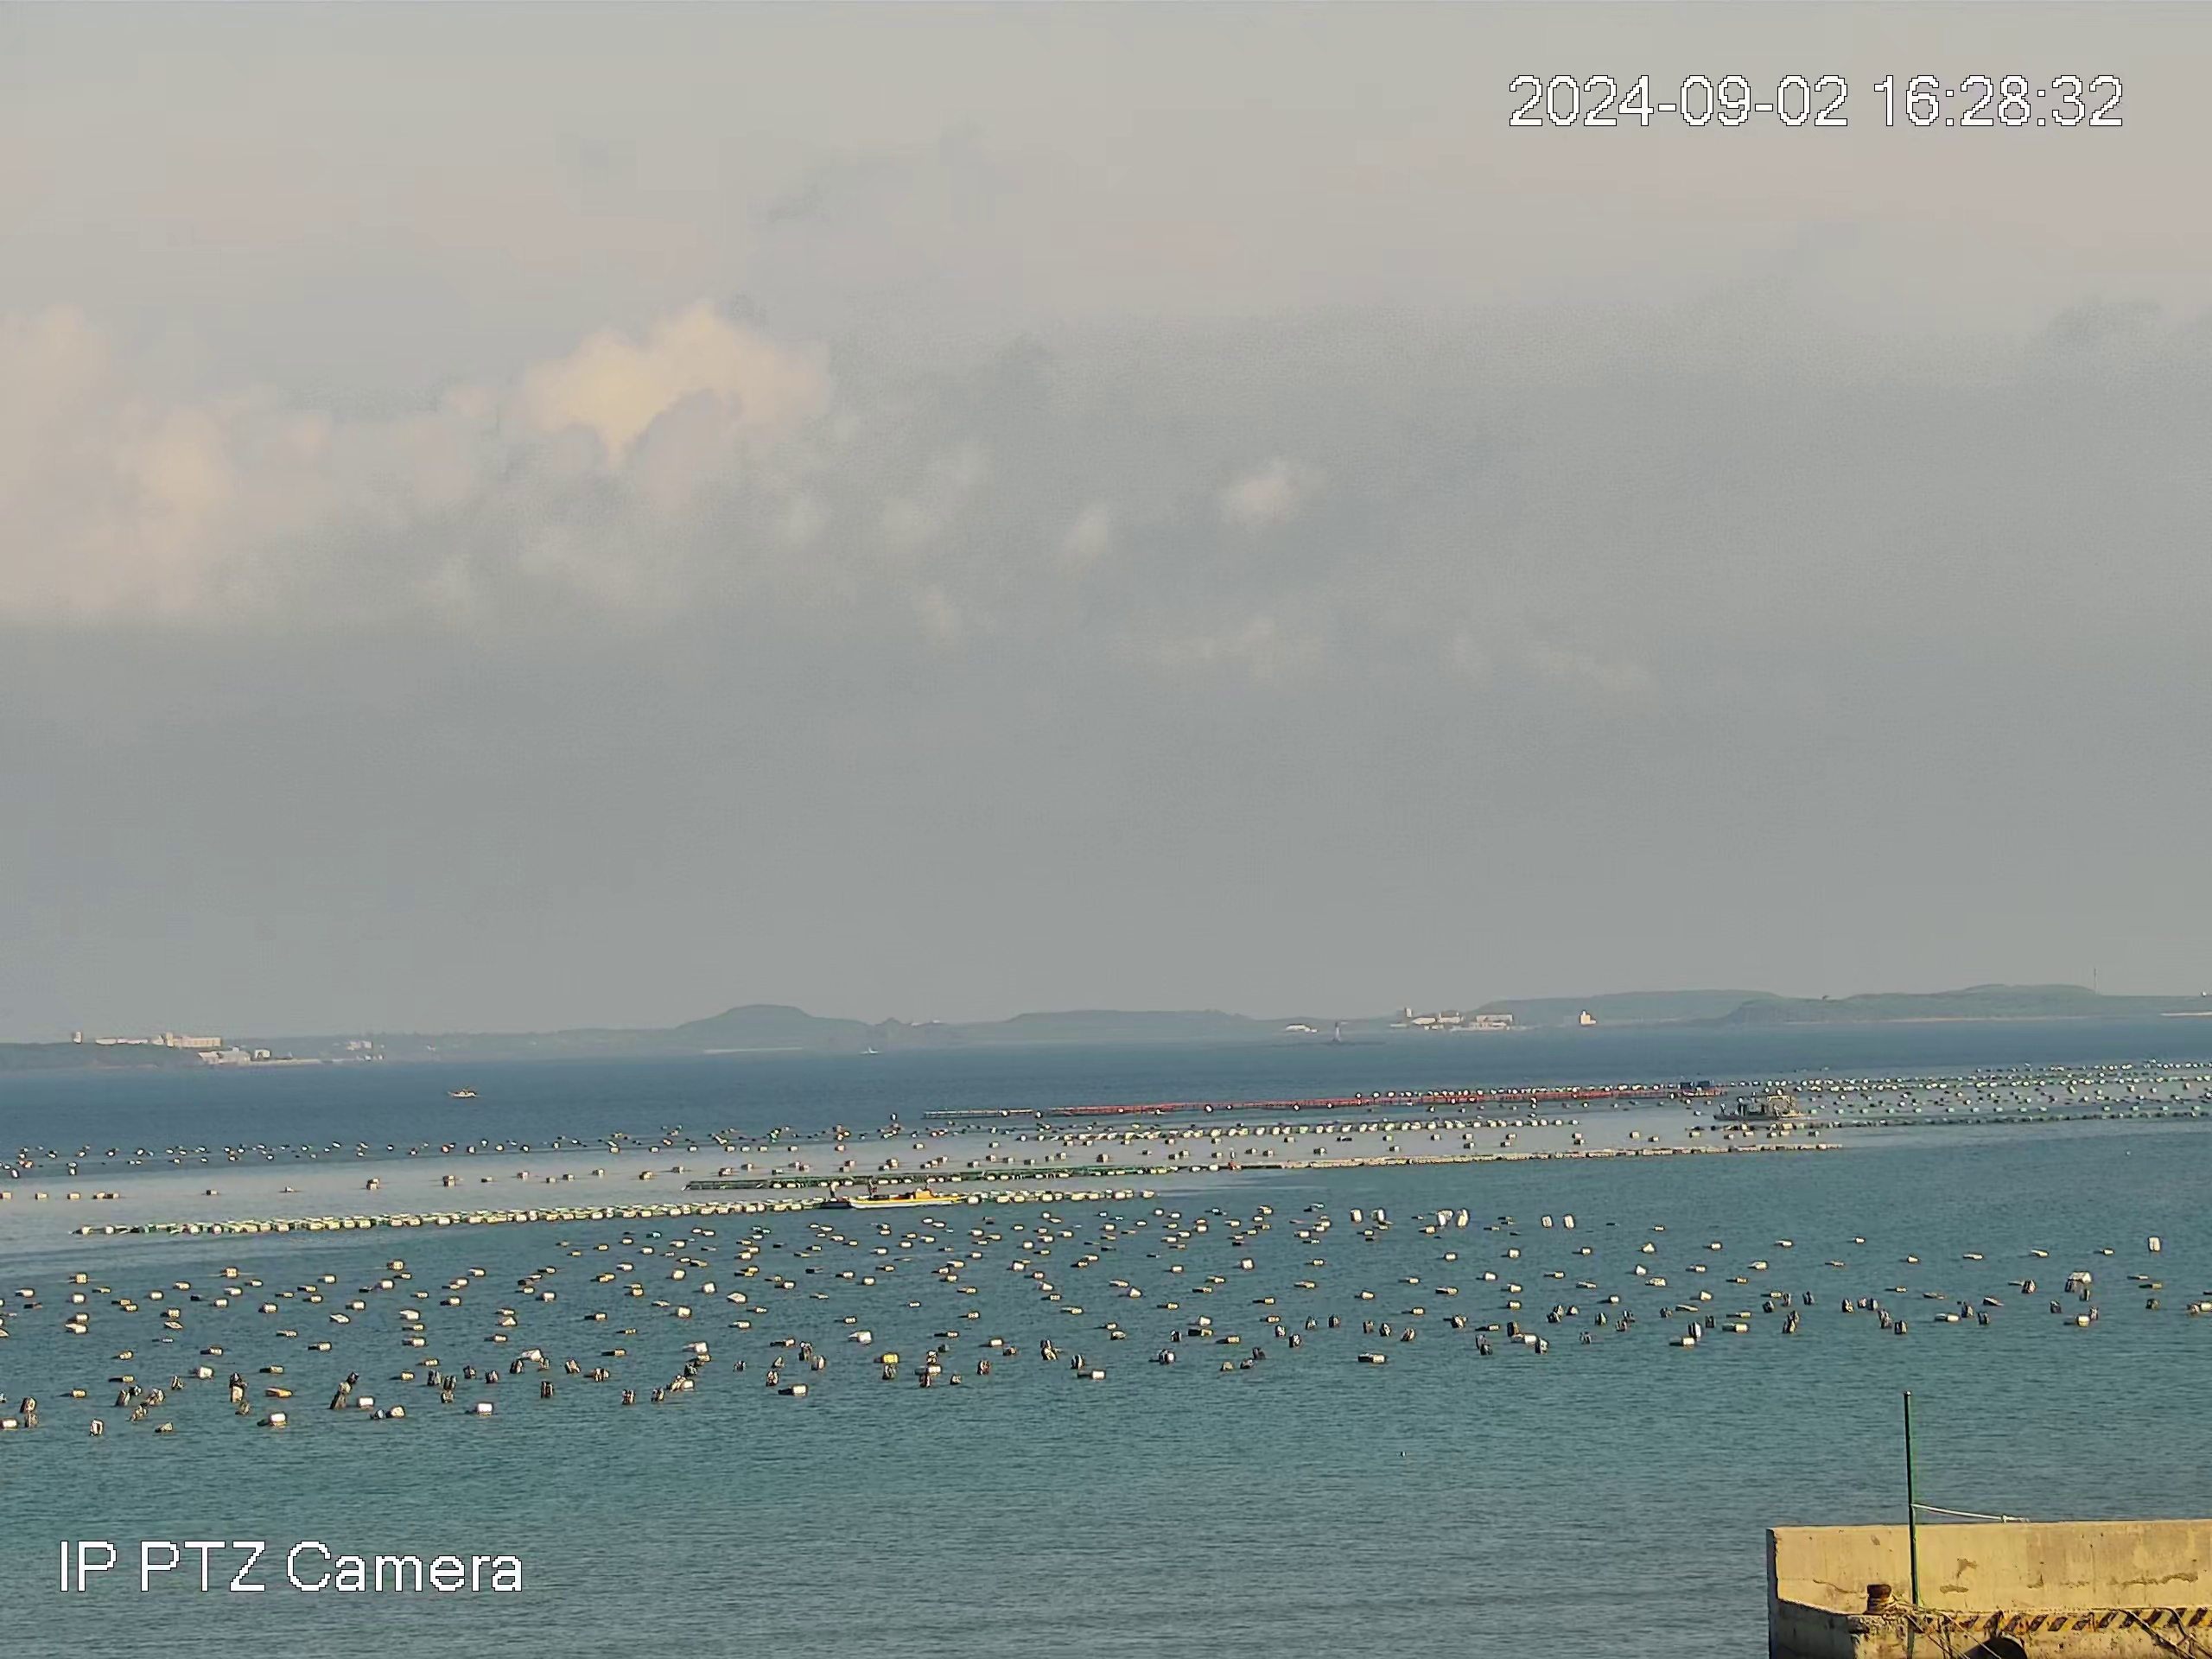boat: (845, 1187, 961, 1209), (1712, 1094, 1803, 1122), (448, 1087, 477, 1100)
